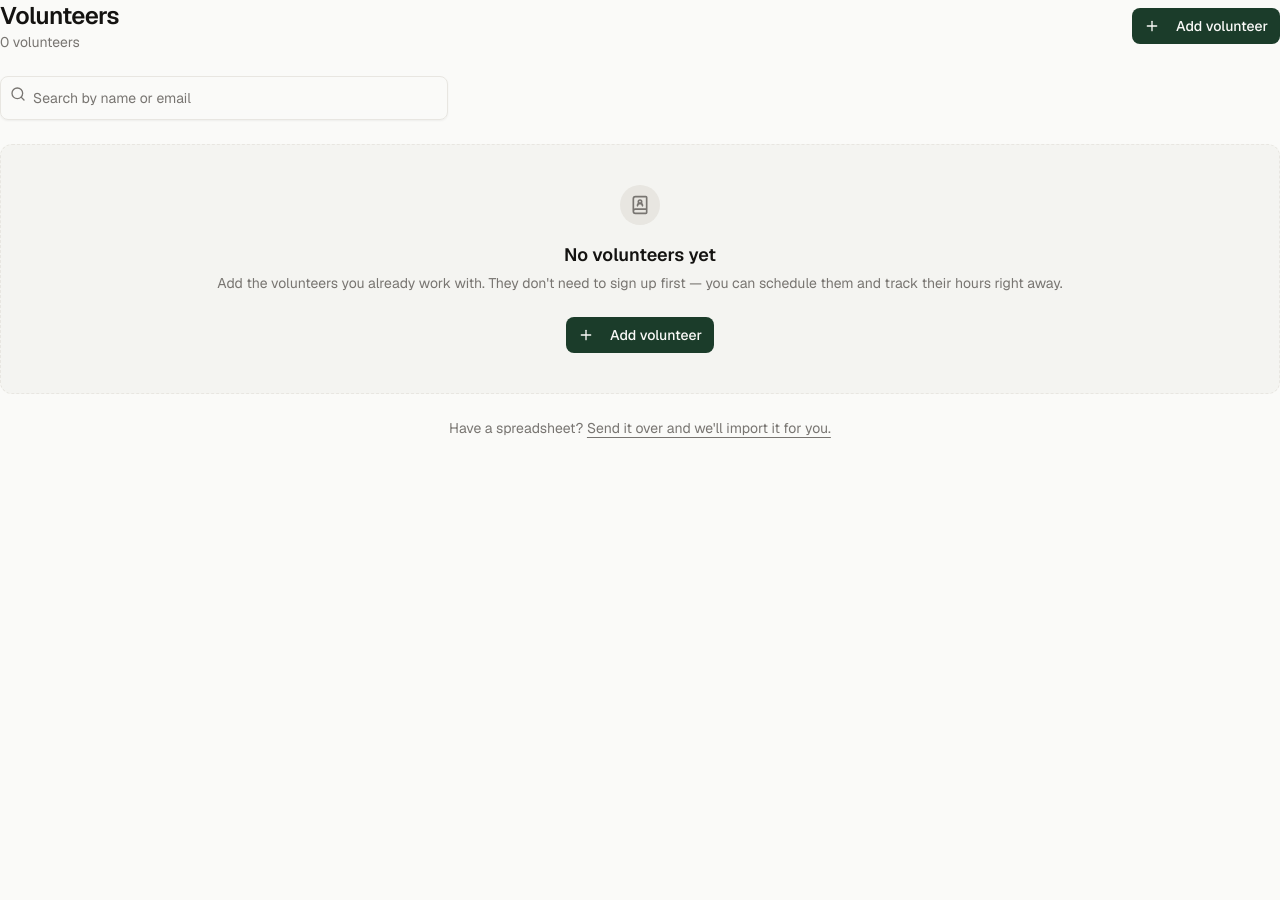
Test: VolunteersPage states › carries the batch result out of the form that produced it
The image size is (1280, 900).
Click the button with test id "empty-roster-add-volunteer".
click(640, 335)  # box [566,317,714,353]
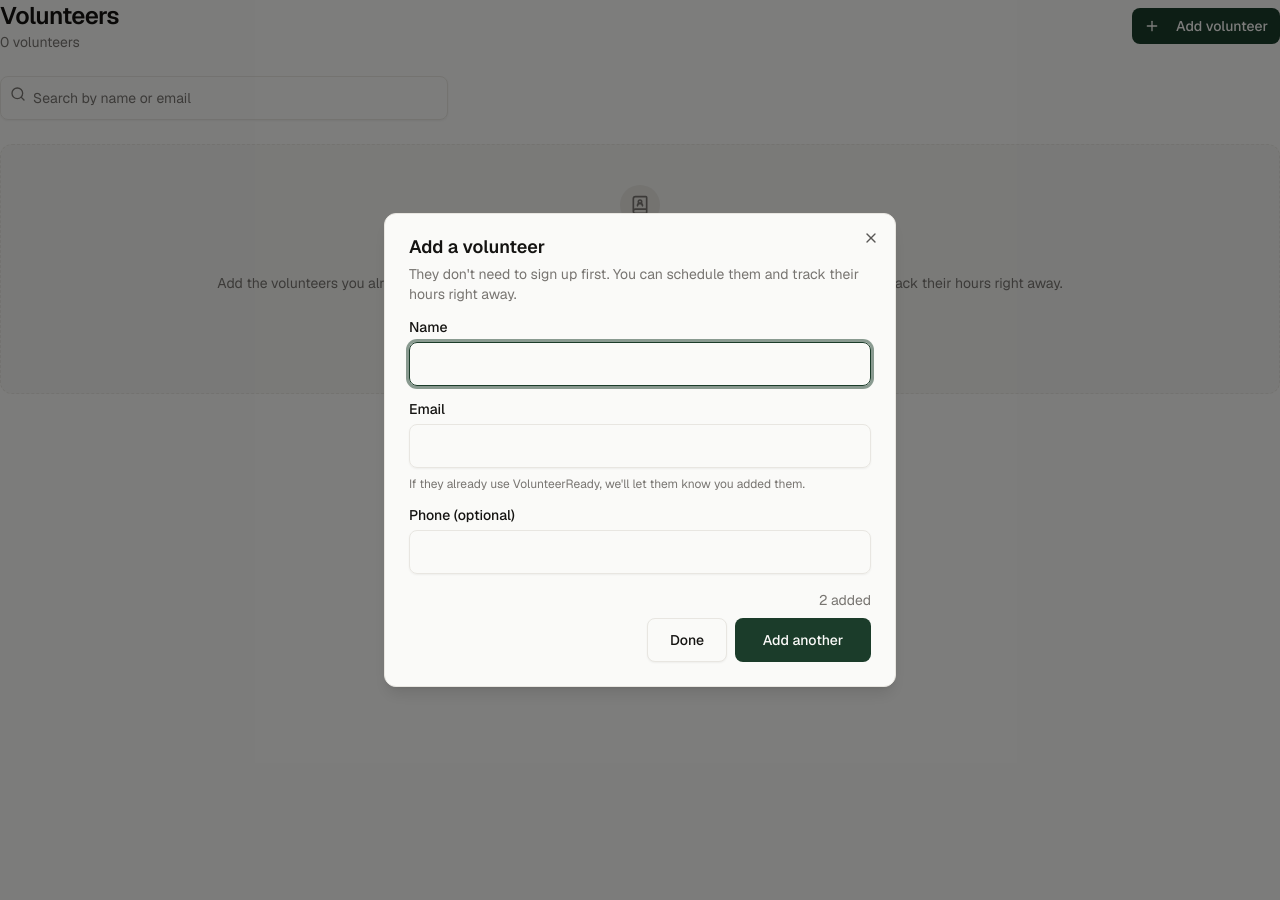
Click the button "Done".
click(687, 640)  # box [647,618,727,662]
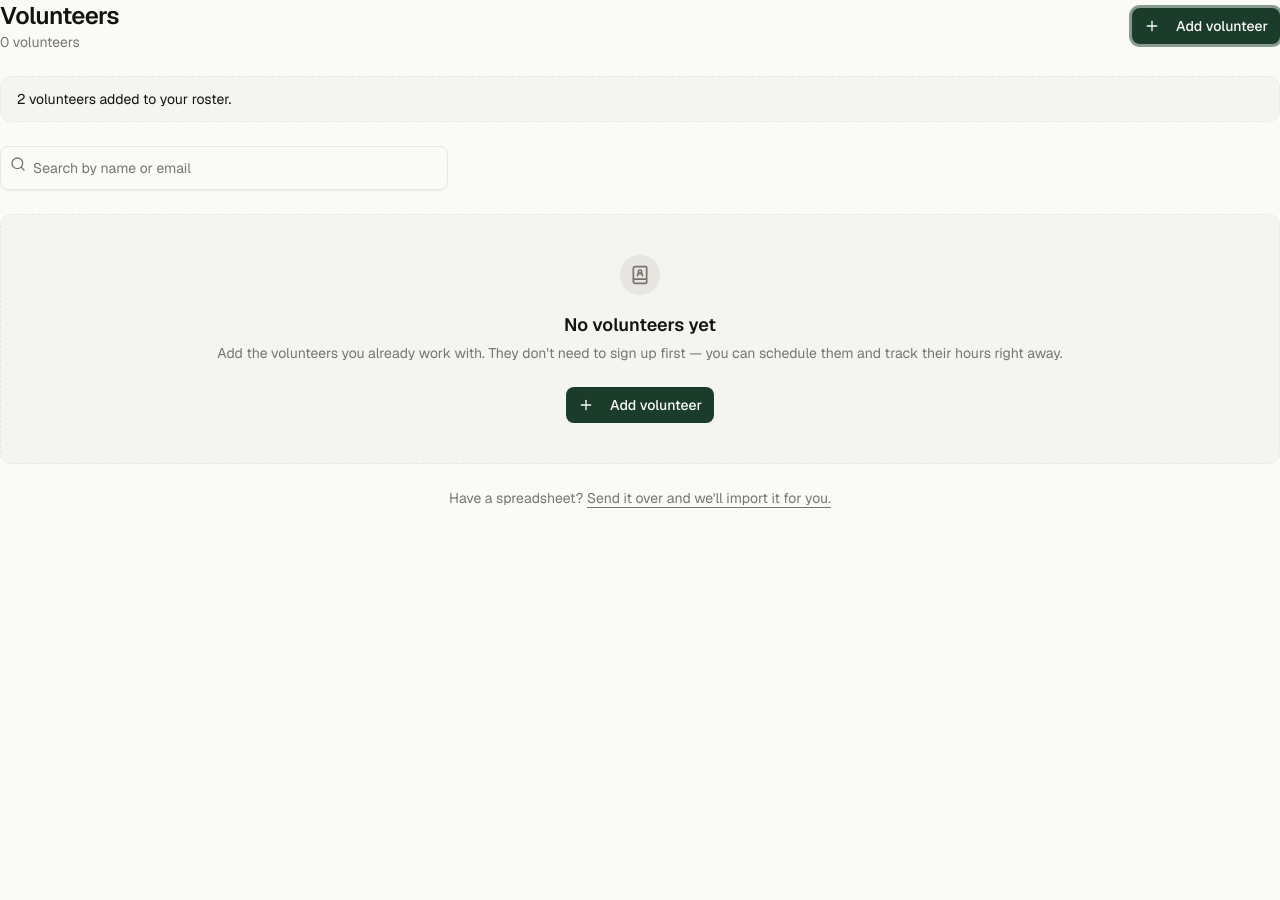
Check: the text "2 volunteers added to your roster." is shown 2 times
